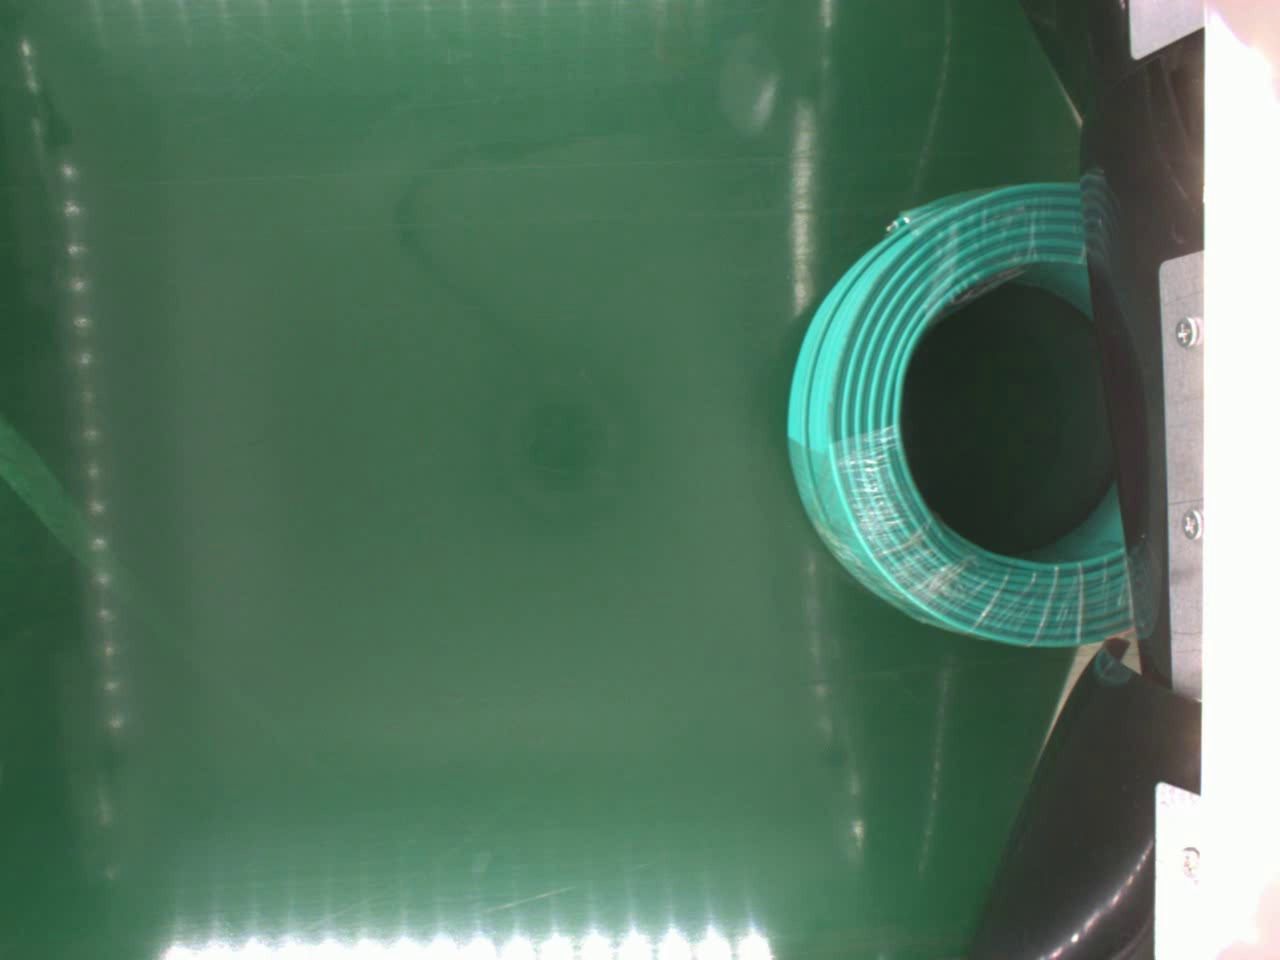green: (784, 177, 1137, 648)
